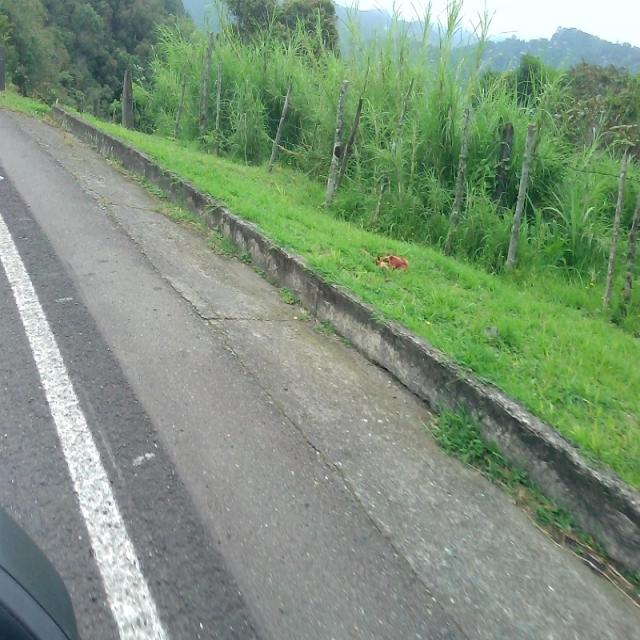DITCH: (40, 34, 638, 638), (1, 104, 639, 638)
